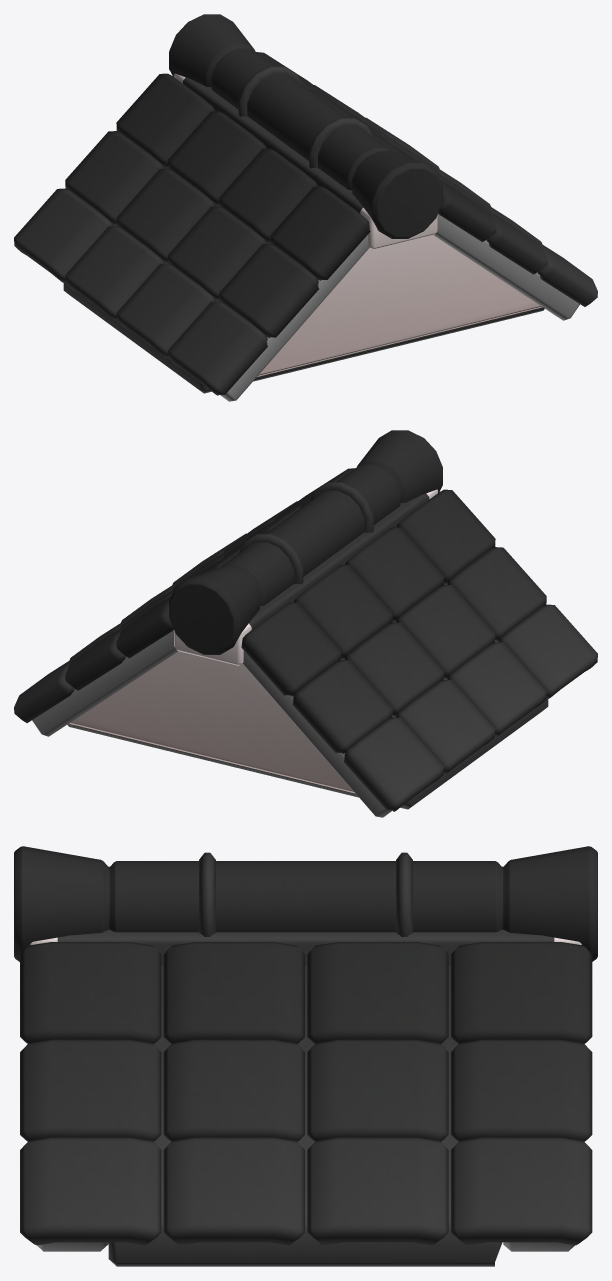
Rendered from SM_Wood_Roof_01.fbx.
3 renders of one model, top to bottom at view 1: azimuth 30°, elevation 25°; view 2: azimuth 150°, elevation 25°; view 3: azimuth 270°, elevation 25°, orthographic. The views are drawn at different scales.
Parts seen in each view (by area): view 1: SM_Wood_Roof_01; view 2: SM_Wood_Roof_01; view 3: SM_Wood_Roof_01.
Boxes of the visible parts, x1,y1,x2,y2 form: SM_Wood_Roof_01: [14, 14, 597, 401]; SM_Wood_Roof_01: [14, 430, 597, 817]; SM_Wood_Roof_01: [14, 846, 597, 1266].
Bounding box in the file's own units: 1.09 × 0.5677 × 1.
